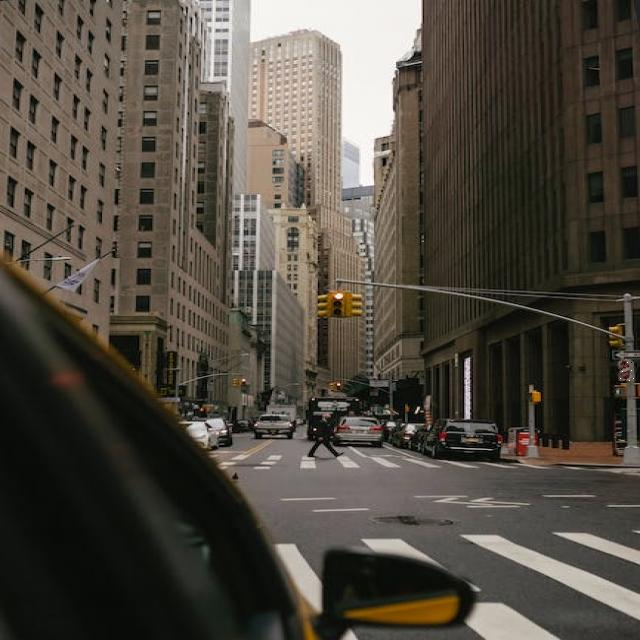no entry: (618, 359, 634, 381)
